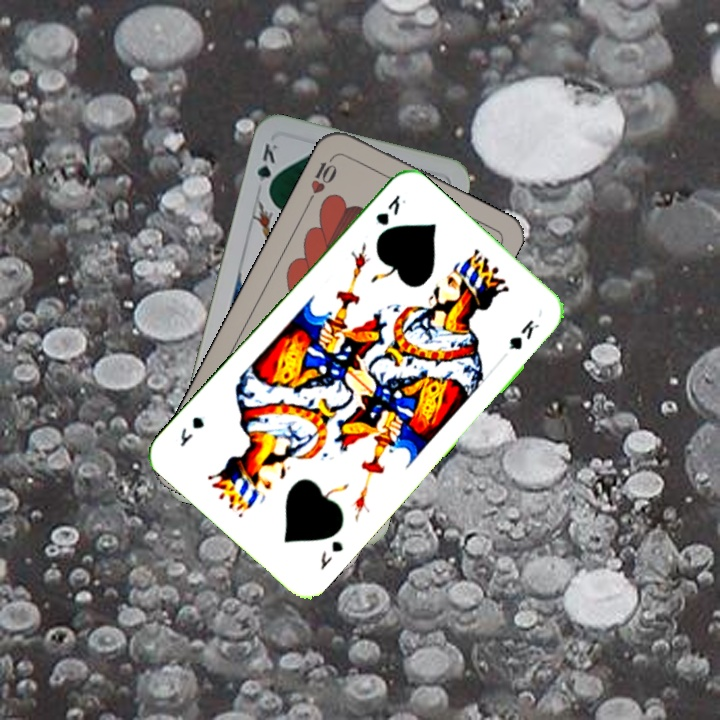GK: (252, 139, 280, 197), (371, 191, 409, 229), (316, 536, 346, 573)
H10: (304, 151, 340, 206)
